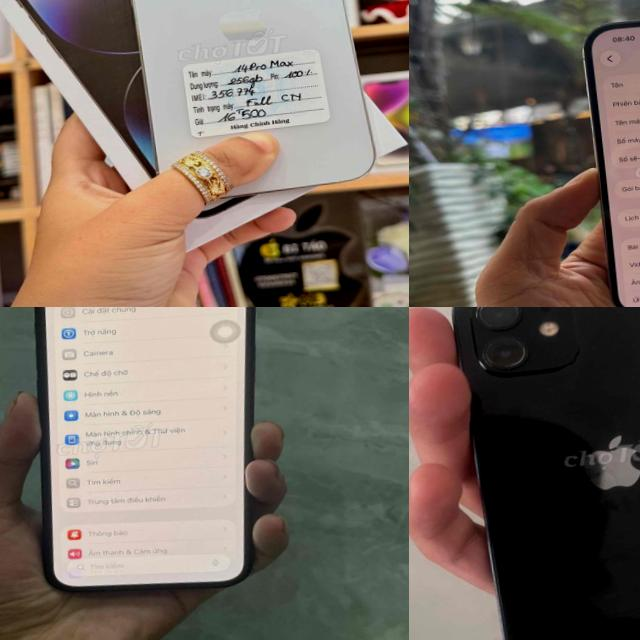gen_12_13: (0, 307, 289, 607), (442, 307, 640, 640)
gen_14: (110, 0, 385, 219), (565, 0, 640, 307)
scratch: (522, 622, 595, 640)
